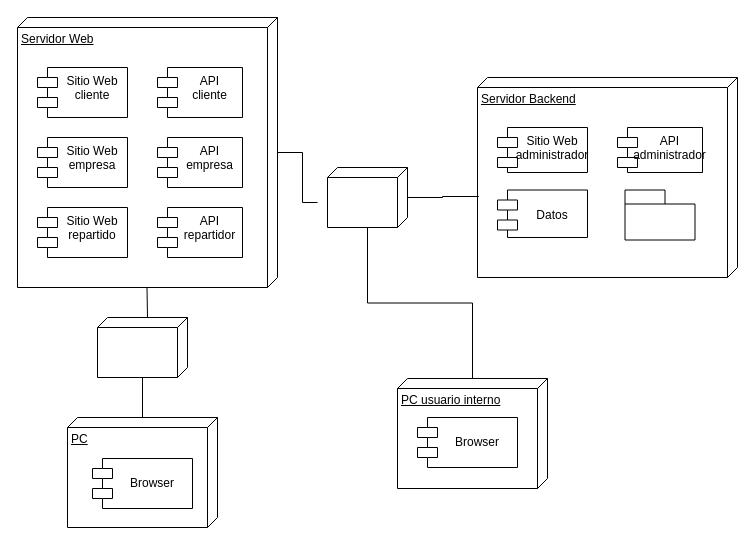
The diagram is 755 pixels wide and 545 high, and some of its shapes have lost their labels. The shapes that lost their labels are listed below. From the top down, each one's centre as x and y in pixels, then its label:
At point 367,197: "Firewall red interna".
At point 659,214: "BD".
At point 142,347: "Firewall red externa".
